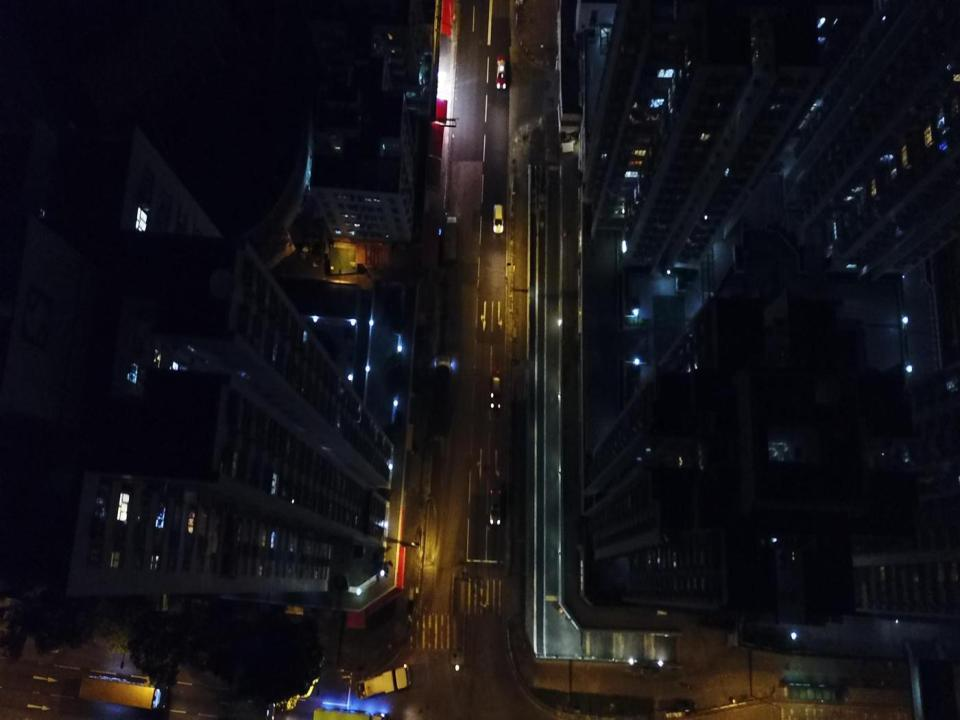bus: (78, 669, 170, 711)
car: (487, 486, 503, 525), (488, 375, 502, 411), (495, 53, 508, 90), (492, 204, 504, 234)
truck: (426, 354, 456, 438), (356, 662, 411, 700), (442, 216, 460, 266)
